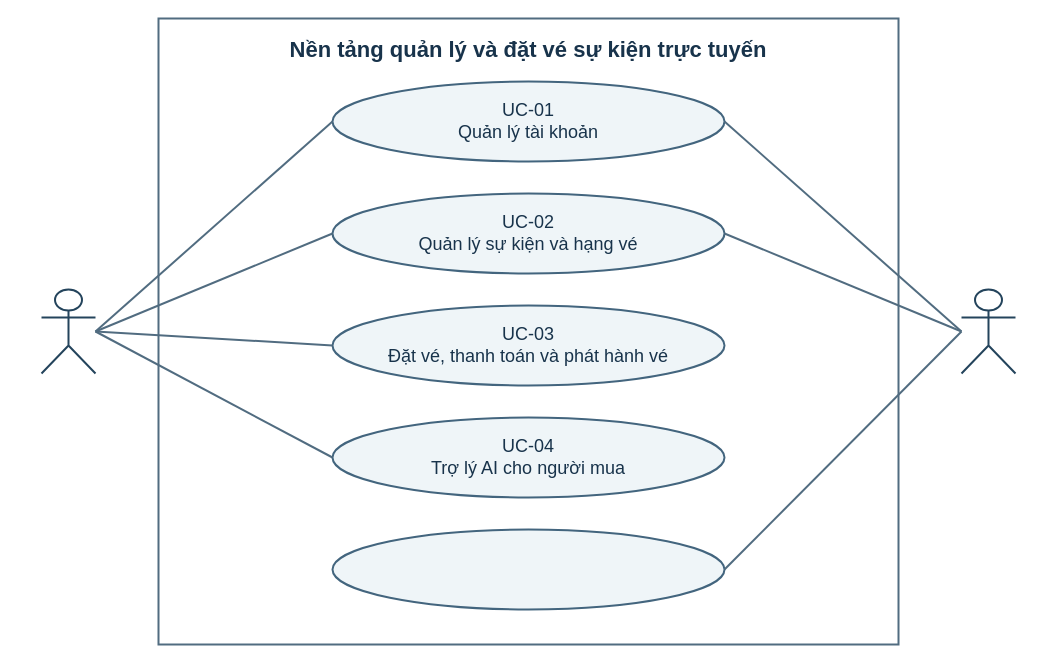
This 1059x662 diagram has some shape labels left out. Here are the shapes that lost their labels. From the top down, the centre of each, then its label:
pixel 68 331: Khách hàng
pixel 988 331: Ban tổ chức
pixel 528 569: UC-05 Công cụ AI cho nhà tổ chức
